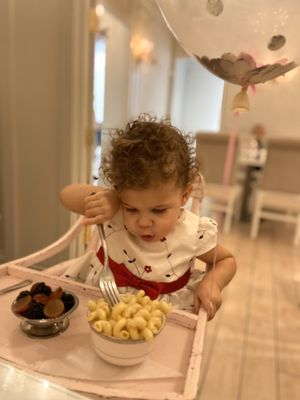sushi: (87, 288, 170, 367), (11, 282, 80, 337)
